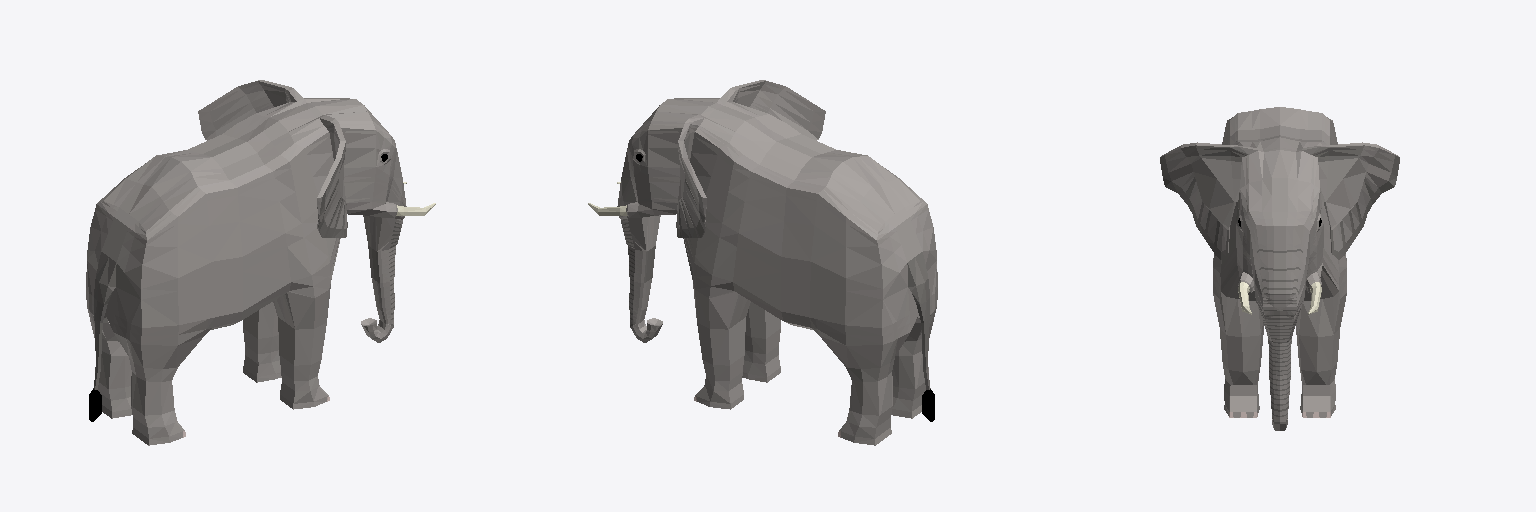
File: elephant.obj
The picture shows the model from 3 angles: view 1: azimuth 30°, elevation 25°; view 2: azimuth 150°, elevation 25°; view 3: azimuth 270°, elevation 25°; orthographic projection.
Visible parts, largest first — view 1: Plane, Plane.001, Plane.002, Plane.003; view 2: Plane, Plane.001, Plane.002, Plane.003; view 3: Plane.001, Plane.002, Plane.
Part boxes in pixels (bbox=[...]): Plane: bbox=[86, 114, 330, 345]; Plane.001: bbox=[198, 80, 435, 342]; Plane.002: bbox=[87, 277, 331, 445]; Plane.003: bbox=[89, 252, 116, 421]; Plane: bbox=[693, 114, 937, 345]; Plane.001: bbox=[588, 80, 825, 342]; Plane.002: bbox=[692, 277, 936, 445]; Plane.003: bbox=[907, 252, 934, 421]; Plane.001: bbox=[1160, 137, 1399, 430]; Plane.002: bbox=[1213, 280, 1346, 417]; Plane: bbox=[1213, 107, 1346, 289].
Size of the model in its own units: 3.64 by 2.9 by 2.3.